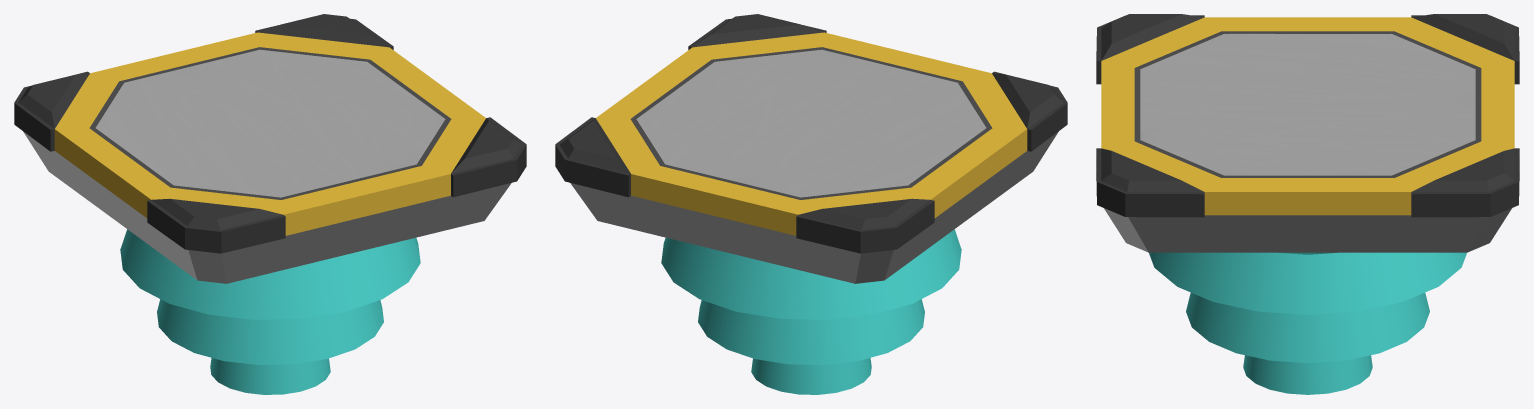
Rendered from FloatingPlatform2.fbx.
The picture shows the model from 3 angles, left to right: view 1: azimuth 30°, elevation 25°; view 2: azimuth 150°, elevation 25°; view 3: azimuth 270°, elevation 25°; orthographic projection. The views are drawn at different scales.
Parts seen in each view (by area): view 1: FLoatingPlatform; view 2: FLoatingPlatform; view 3: FLoatingPlatform.
Boxes of the visible parts, x1,y1,x2,y2 form: FLoatingPlatform: (14, 14, 526, 394); FLoatingPlatform: (555, 14, 1067, 394); FLoatingPlatform: (1096, 14, 1519, 394).
Size of the model in its own units: 205 by 144 by 205.
Materials: 1 (1 with a texture image).
